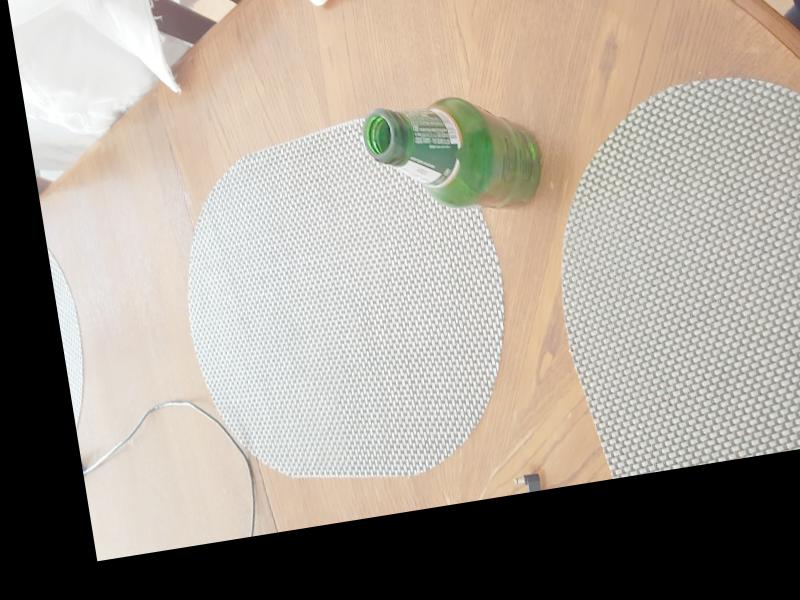Beer: (359, 84, 550, 227)
